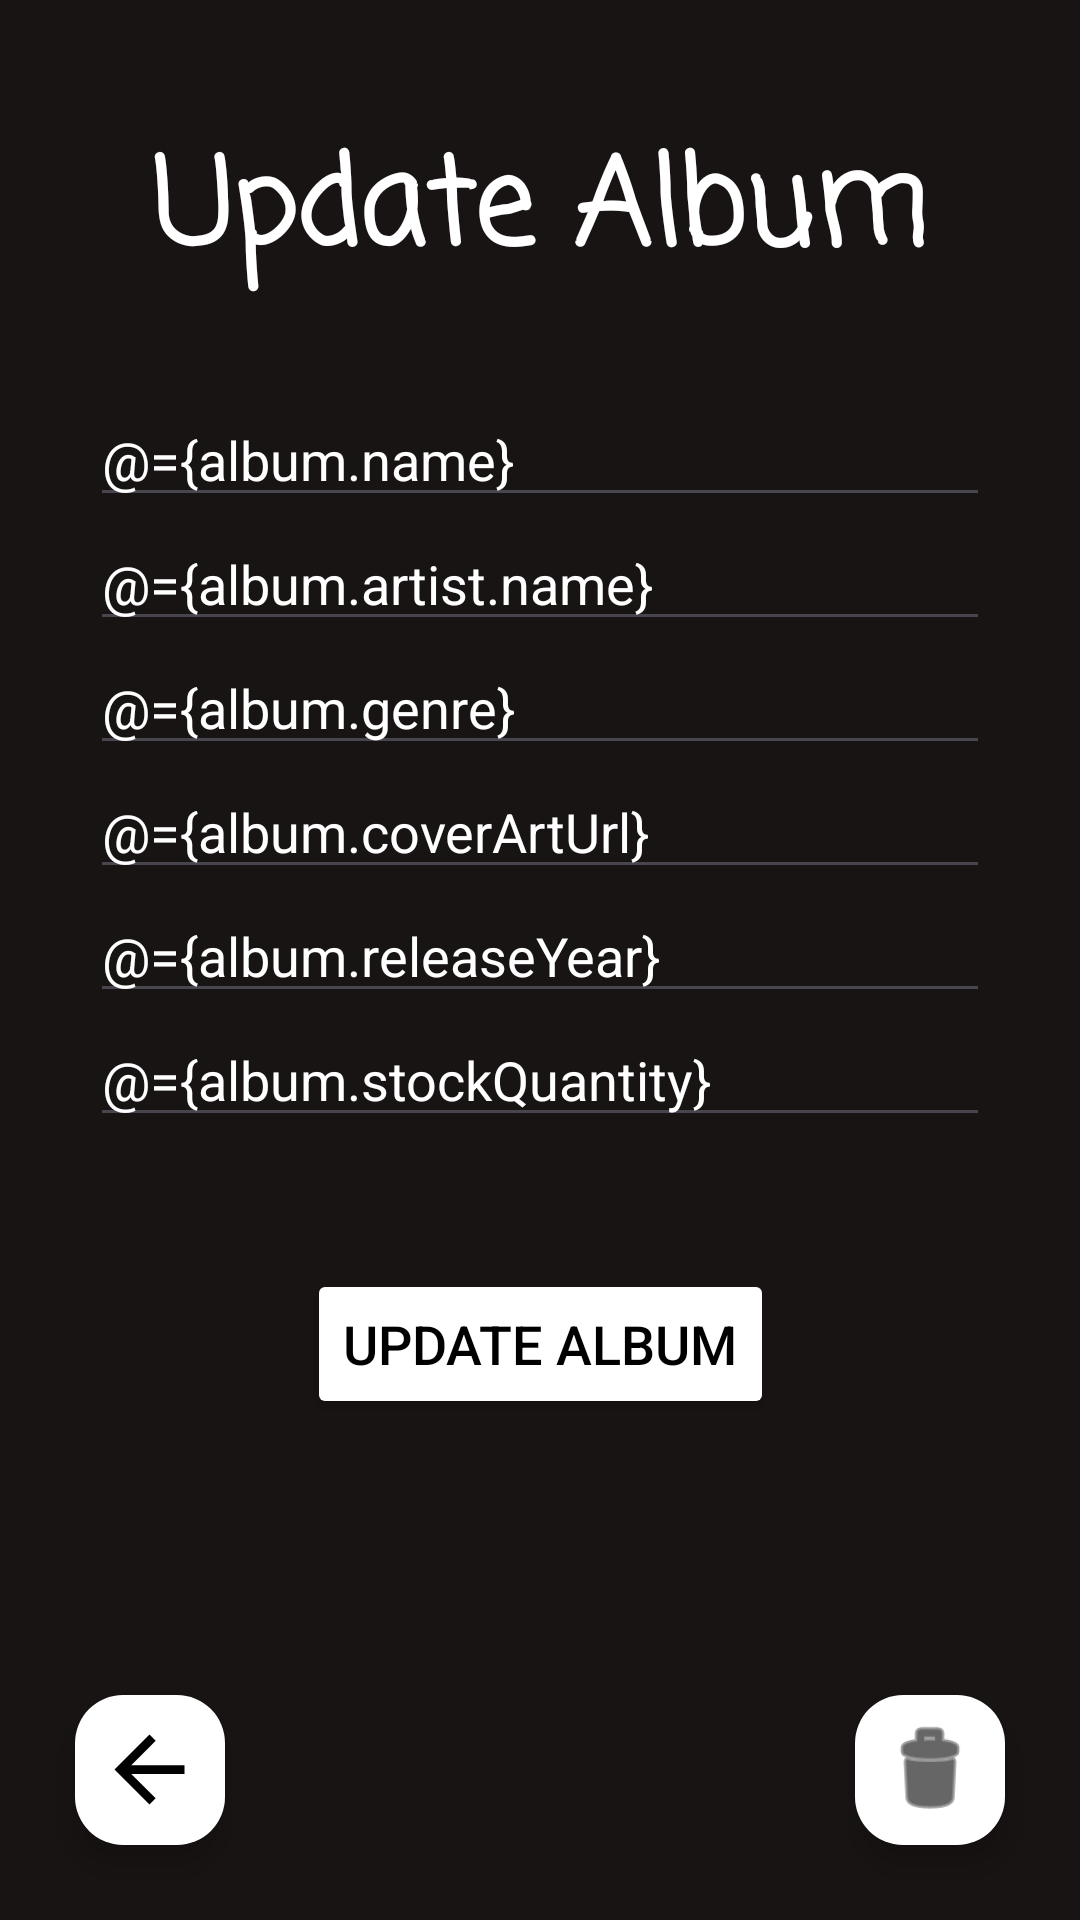

Named icons in this screenshot (1080w x 1920h) and their centers, (x,y):
back arrow: (150,1770)
delete: (930,1770)
